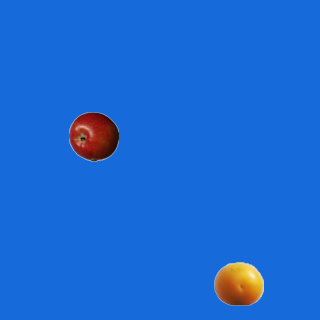Apple Braeburn: (68, 111, 118, 161)
Cherry Wax Yellow: (213, 258, 263, 308)
